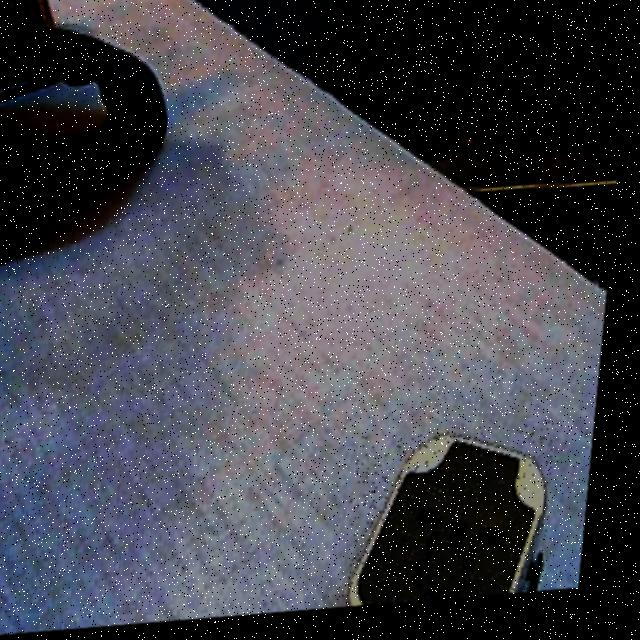adapter: (354, 431, 567, 614)
